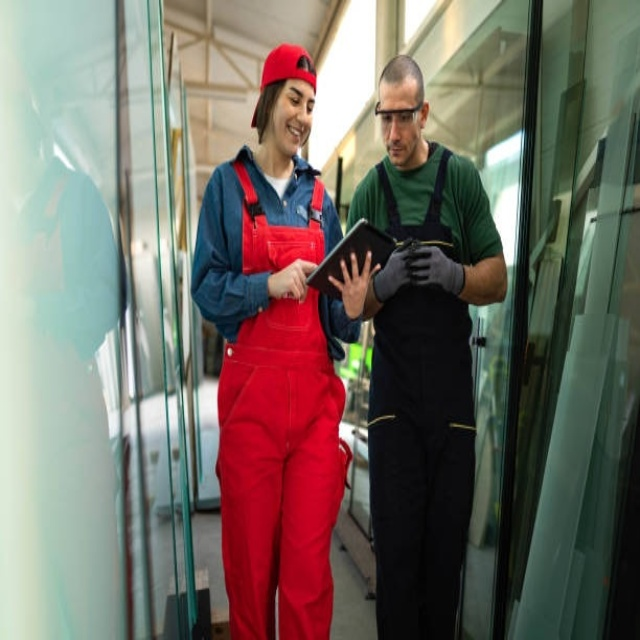Gafas: (376, 100, 423, 125)
Guantes: (407, 244, 464, 298)
Sin_gafas: (283, 78, 322, 118)
Sin_guantes: (328, 251, 377, 320), (269, 259, 317, 304)
Sin_mascara: (282, 118, 304, 149), (386, 138, 407, 165)
